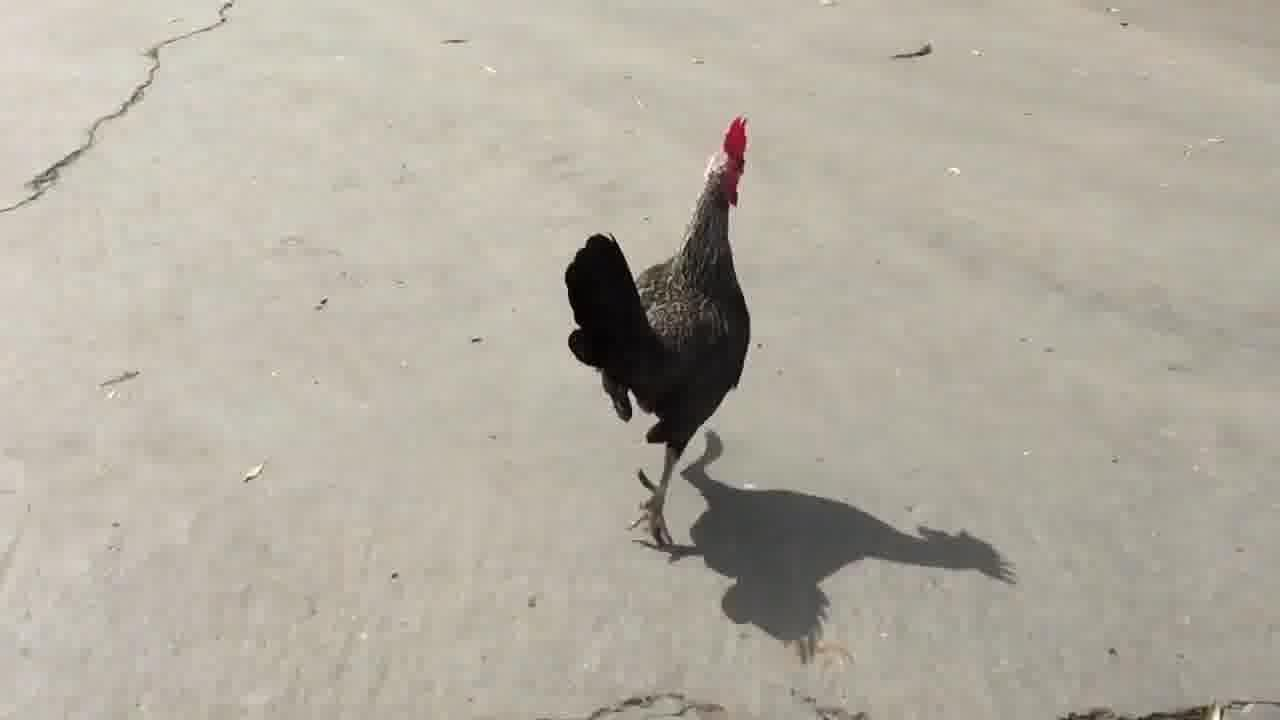Normal: (556, 114, 786, 550)
